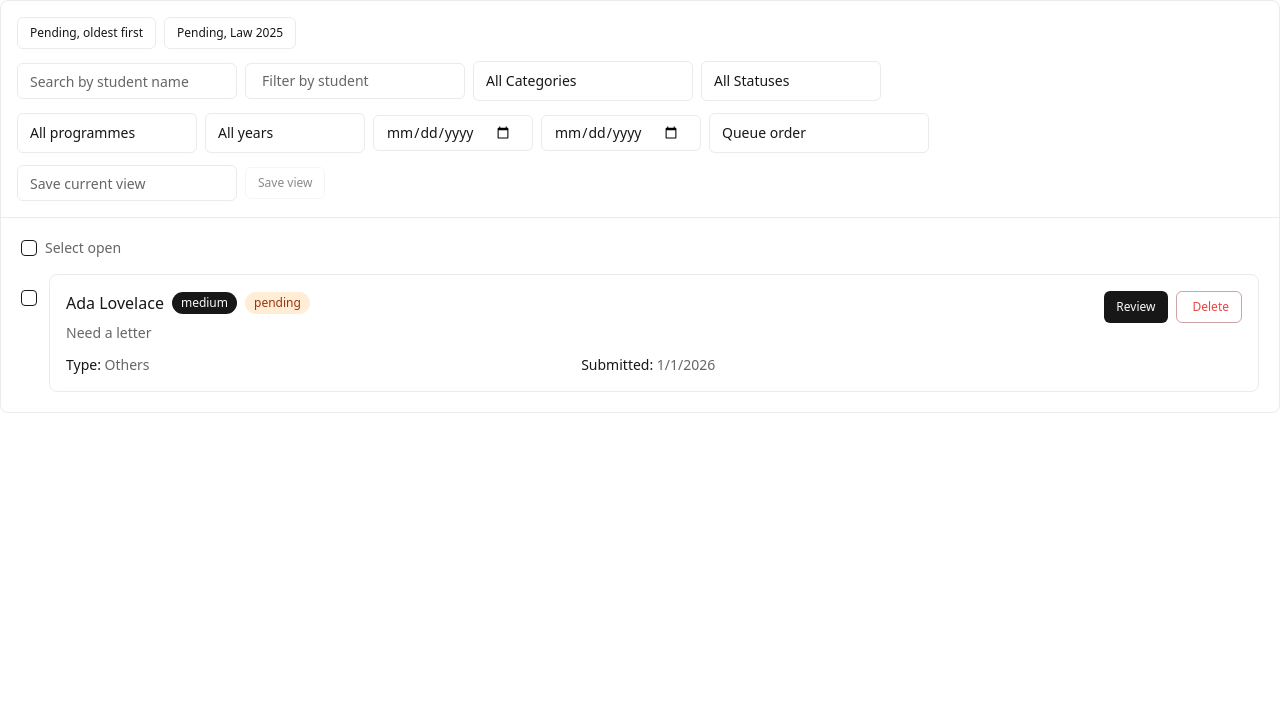
Test case: RequestsQueue › does not bulk reject until a reason is entered
Later steps or results of the test are not shown.
Click the checkbox named "Select request from Ada Lovelace" at (29, 298), box [21,290,37,306]
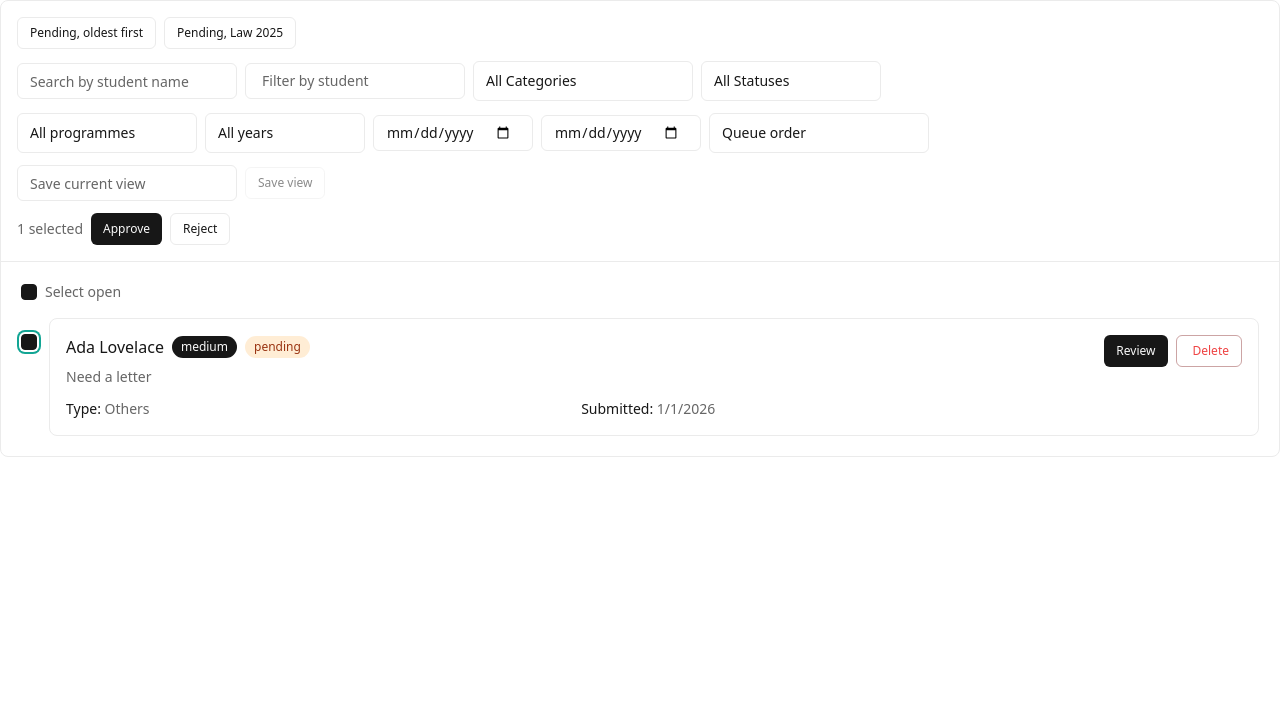
Click the button "Reject" at (200, 229), box [170,213,230,245]
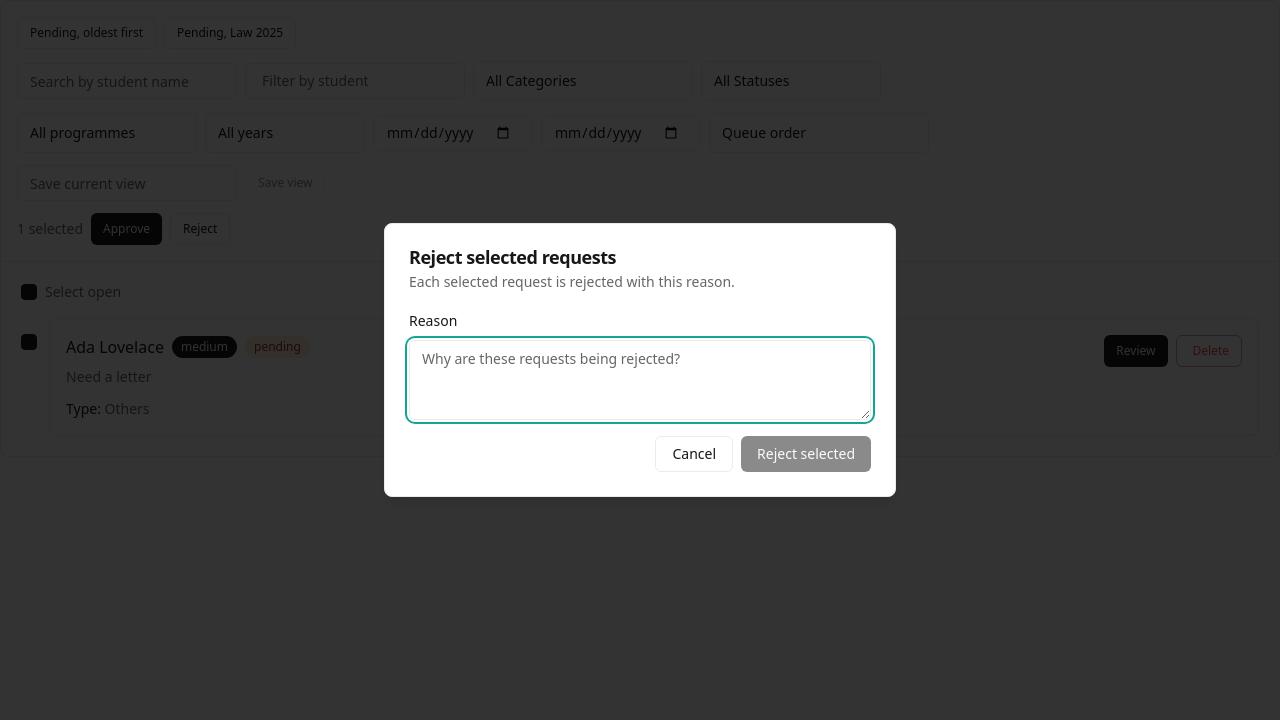
Now the button "Reject selected" is disabled, box [741,436,871,472]
Type "Missing documents" into the text box labelled "Reason" at (640, 380), box [409,340,871,420]
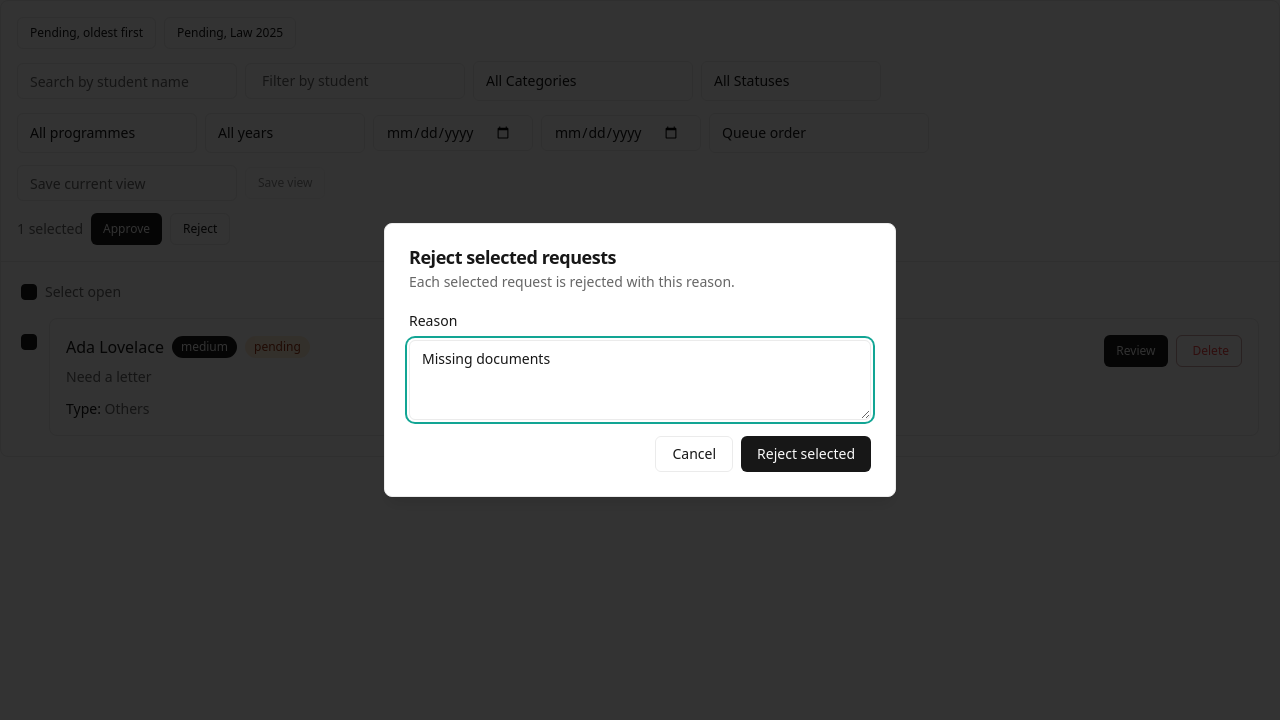
Now the button "Reject selected" is enabled, box [741,436,871,472]
